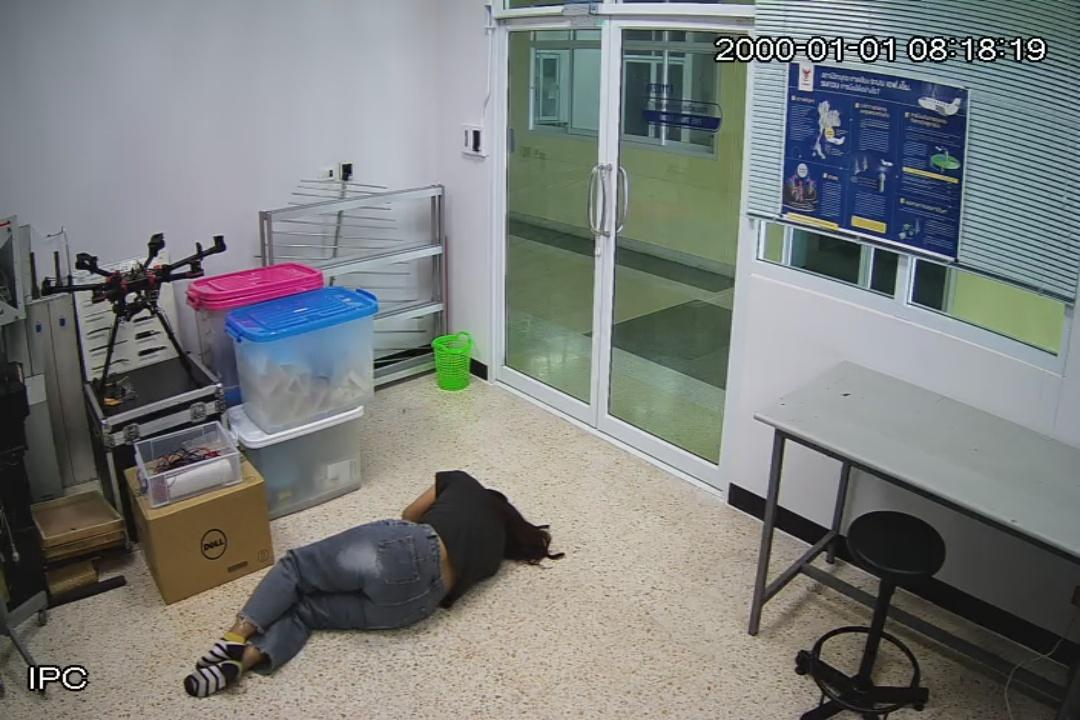fall: (183, 453, 540, 693)
